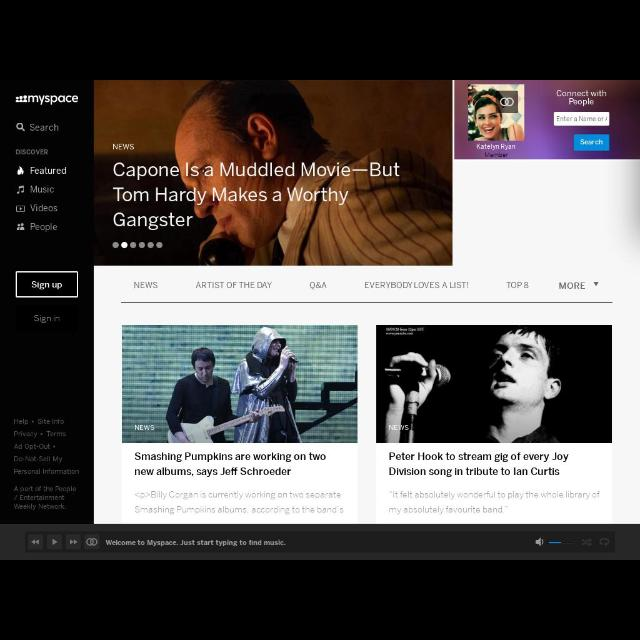backgroundimage: (94, 82, 452, 266)
button: (48, 535, 62, 549), (66, 535, 80, 549), (85, 535, 98, 549), (30, 536, 42, 548)
icon: (16, 121, 26, 131), (15, 165, 25, 175), (15, 222, 25, 232), (534, 537, 544, 547), (582, 536, 592, 546), (16, 184, 24, 194), (30, 538, 40, 546), (86, 538, 96, 546), (598, 538, 608, 546), (16, 204, 24, 212), (69, 538, 77, 546), (51, 538, 58, 546), (592, 280, 598, 288)
image: (376, 326, 612, 442), (122, 326, 356, 442), (454, 81, 640, 161), (14, 95, 80, 104)
multitab: (122, 268, 614, 302)
pageindicator: (111, 239, 163, 249)
spinner: (552, 266, 614, 304)
text: (114, 162, 402, 230), (387, 489, 601, 515), (133, 490, 344, 516), (390, 451, 570, 477), (135, 452, 327, 476), (14, 486, 76, 512), (105, 538, 285, 546), (196, 280, 272, 290), (14, 468, 80, 477), (14, 454, 64, 464), (32, 278, 62, 290), (13, 442, 51, 450), (29, 166, 66, 174), (30, 122, 58, 132), (33, 314, 61, 324), (29, 204, 56, 214), (29, 222, 56, 232), (133, 280, 159, 290), (16, 147, 48, 155), (37, 418, 64, 427), (112, 141, 136, 151), (13, 429, 39, 438), (31, 184, 54, 194), (47, 430, 67, 438), (14, 418, 28, 426)
textbutton: (16, 272, 78, 298), (364, 281, 470, 291), (559, 282, 585, 290), (506, 282, 530, 290), (308, 280, 326, 290)
